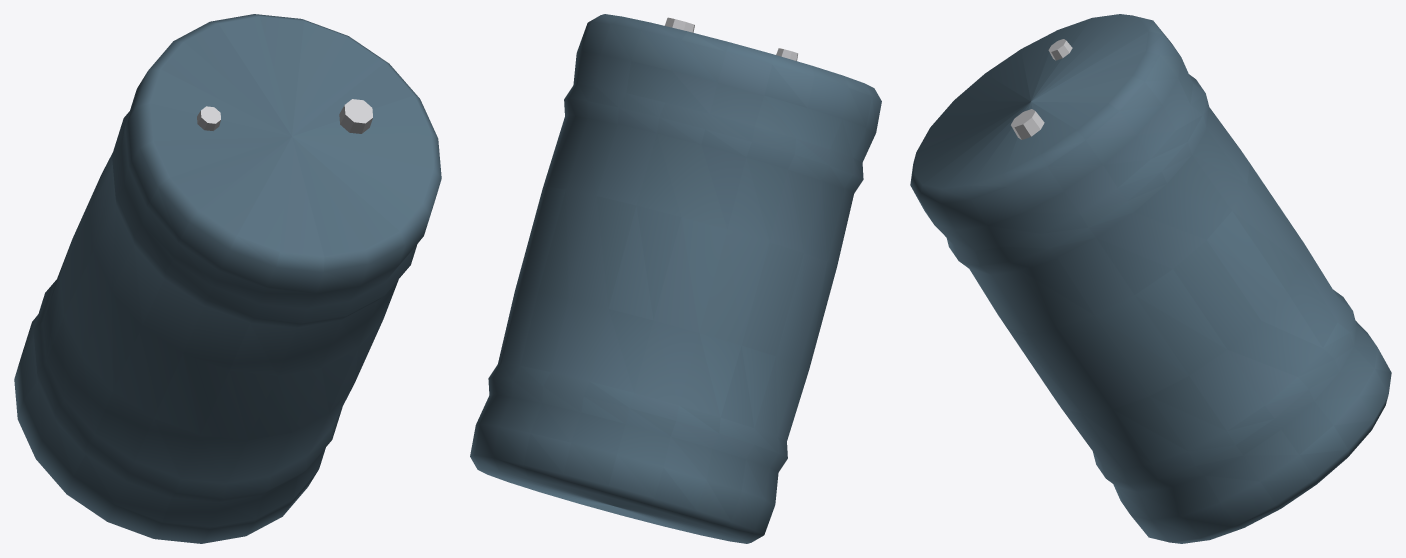
Rendered from storm_debris_barrel_a.glb.
The picture shows the model from 3 angles, left to right: view 1: azimuth 30°, elevation 25°; view 2: azimuth 150°, elevation 25°; view 3: azimuth 270°, elevation 25°; orthographic projection. The views are drawn at different scales.
Parts seen in each view (by area): view 1: body; view 2: body; view 3: body.
Boxes of the visible parts, x1,y1,x2,y2 form: body: (14,14,441,543); body: (470,14,881,543); body: (910,14,1391,543).
Bounding box in the file's own units: 0.5779 × 1.03 × 0.9232.
